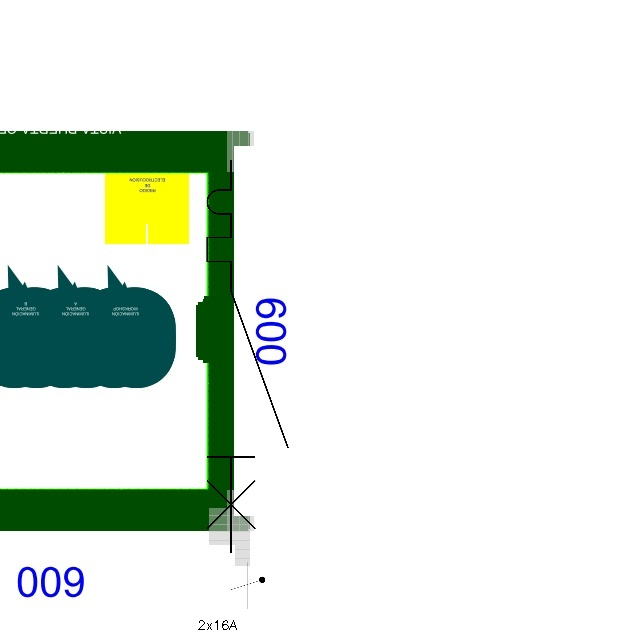interruptor_termomagnetico: (197, 150, 298, 562)
